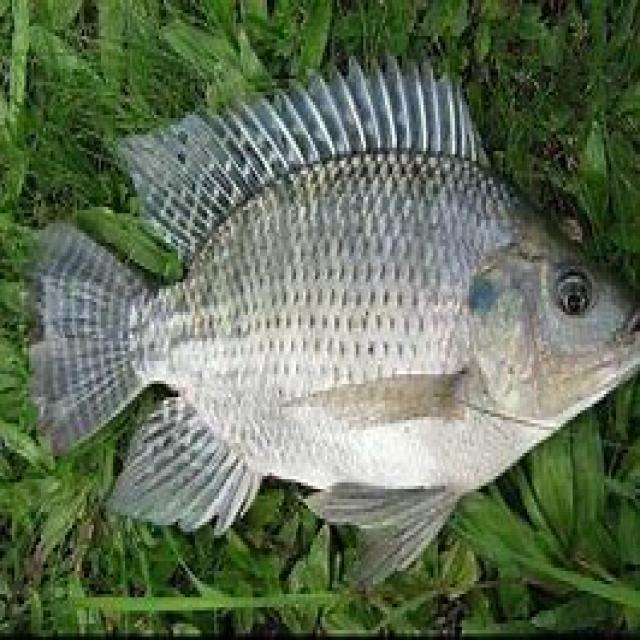Tilapia: (24, 57, 638, 589)
